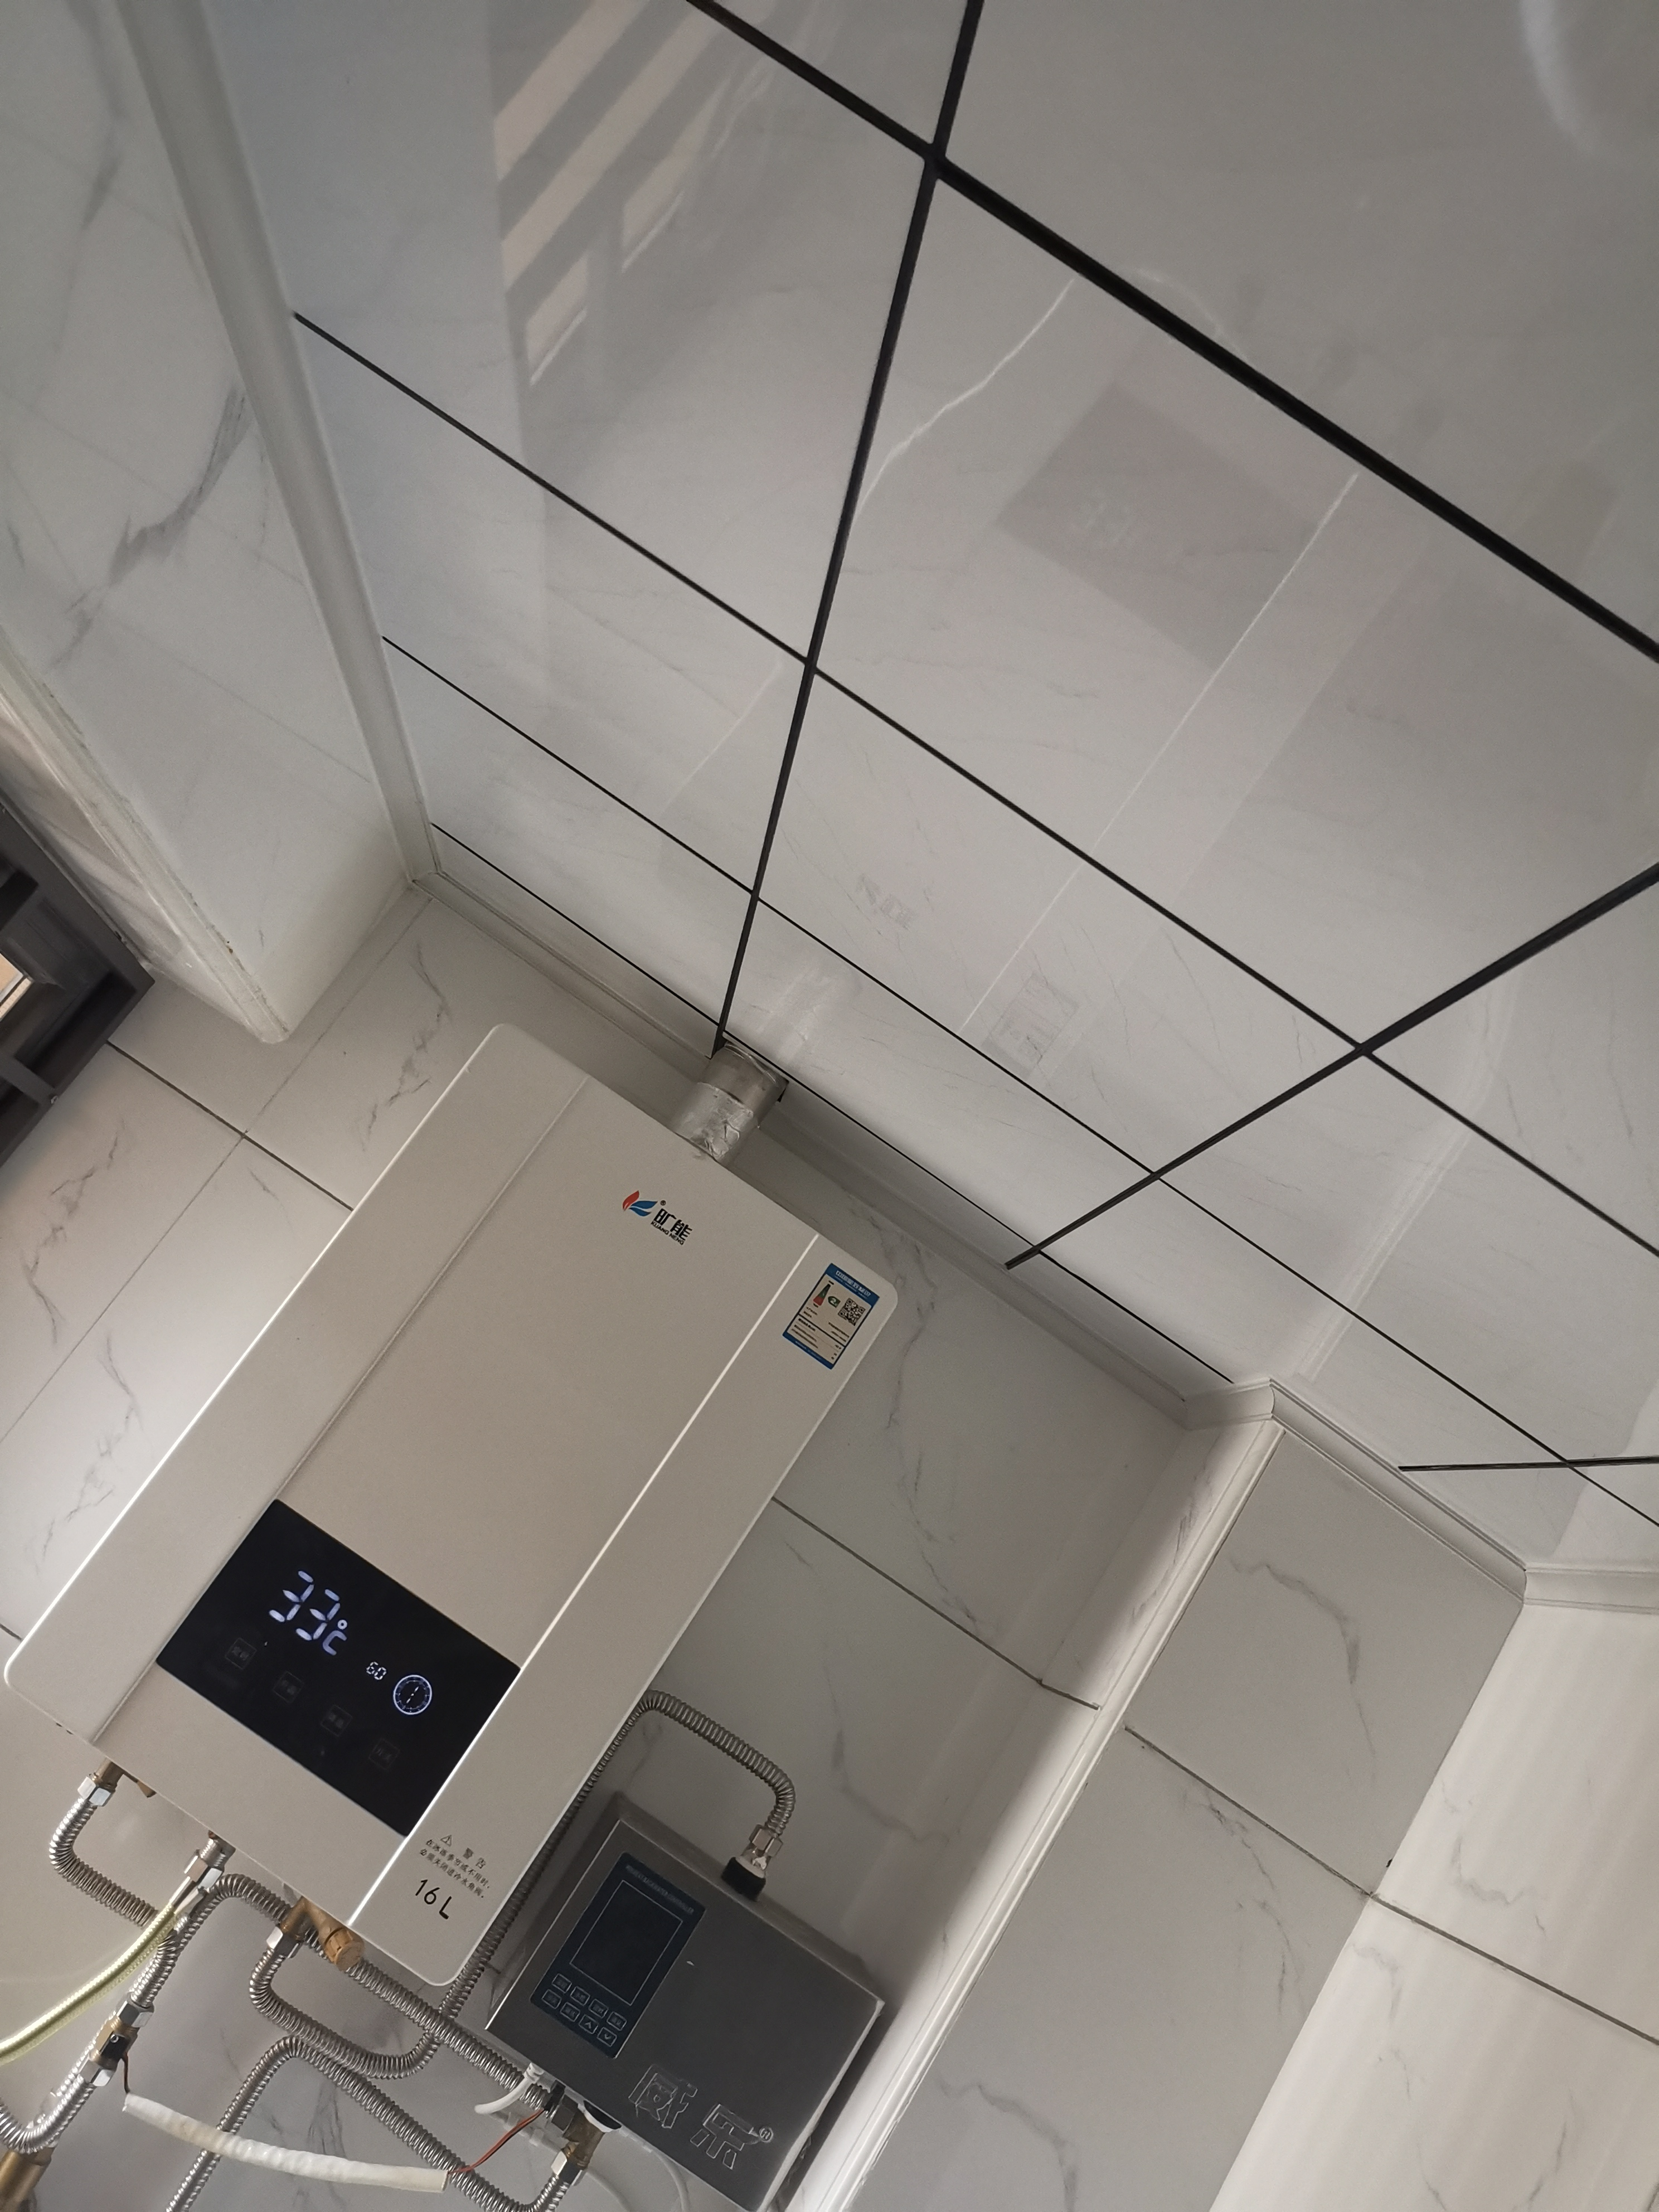loudou: (608, 1172, 725, 1259)
